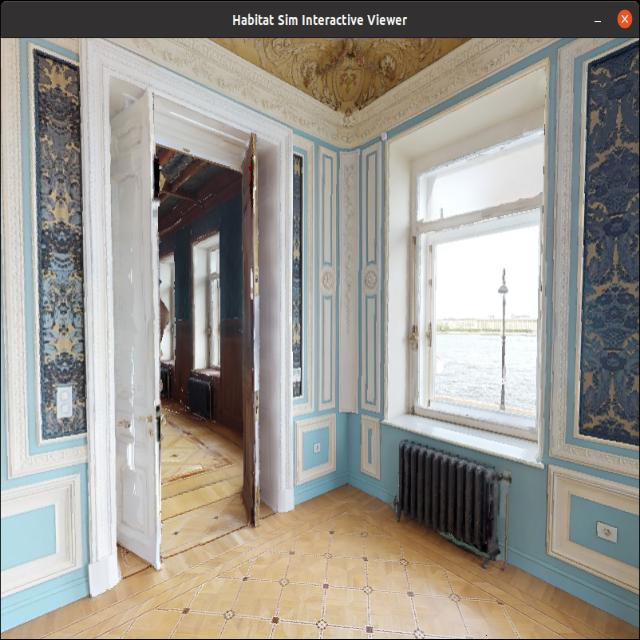door: (98, 97, 175, 570), (251, 129, 302, 533)
door-frame: (139, 91, 267, 568)
